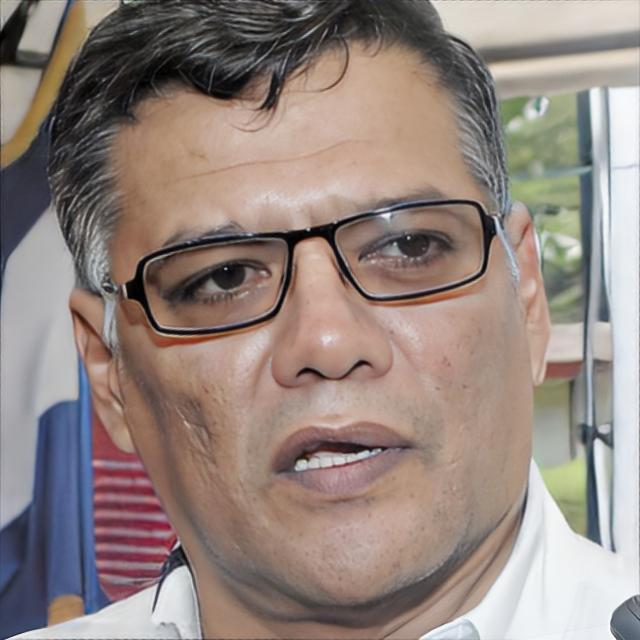disgust: (111, 27, 534, 612)
